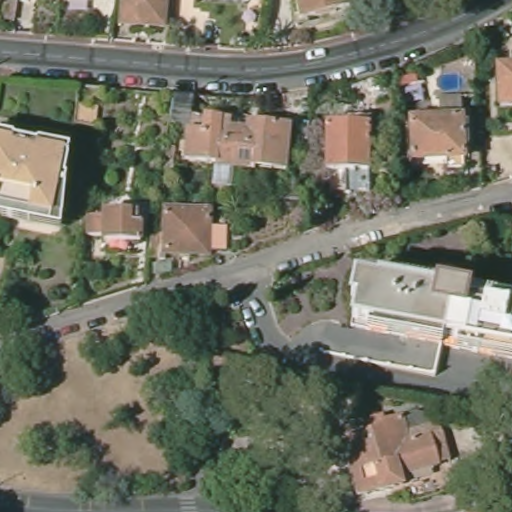pool: (431, 68, 464, 93)
